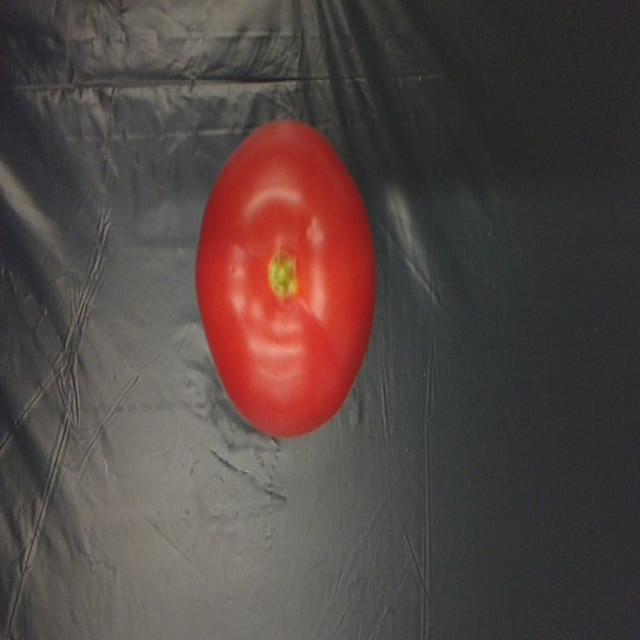kirmizi: (173, 107, 380, 442)
